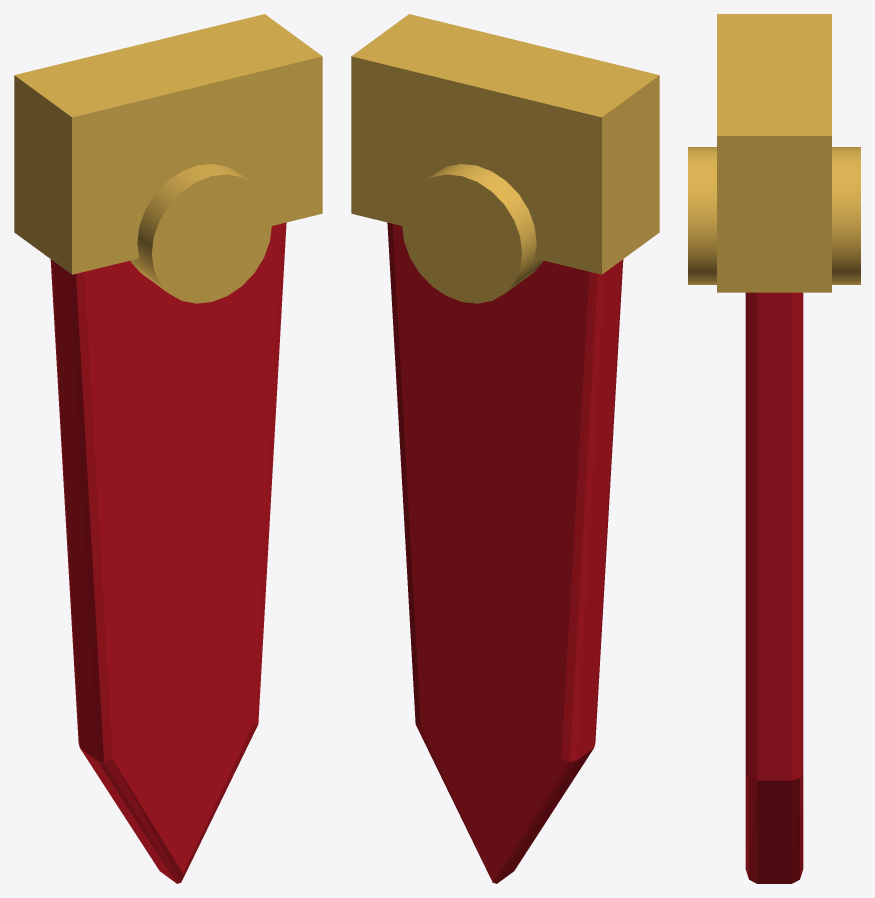
The model's file is mw_flapper.glb.
3 renders of one model, left to right at view 1: azimuth 30°, elevation 25°; view 2: azimuth 150°, elevation 25°; view 3: azimuth 270°, elevation 25°, orthographic.
Visible parts, largest first — view 1: FlapperTongue, FlapperClamp, FlapperPin; view 2: FlapperTongue, FlapperClamp, FlapperPin; view 3: FlapperTongue, FlapperClamp, FlapperPin.
Boxes of the visible parts, left/top/right/bottom form: FlapperTongue: left=50, top=222, right=286, bottom=883; FlapperClamp: left=14, top=14, right=322, bottom=274; FlapperPin: left=130, top=164, right=271, bottom=303; FlapperTongue: left=387, top=222, right=623, bottom=883; FlapperClamp: left=351, top=14, right=659, bottom=274; FlapperPin: left=402, top=164, right=543, bottom=303; FlapperTongue: left=745, top=292, right=803, bottom=883; FlapperClamp: left=717, top=14, right=831, bottom=292; FlapperPin: left=688, top=147, right=860, bottom=284.
Bounding box in the file's own units: 0.05 × 0.1548 × 0.03.
